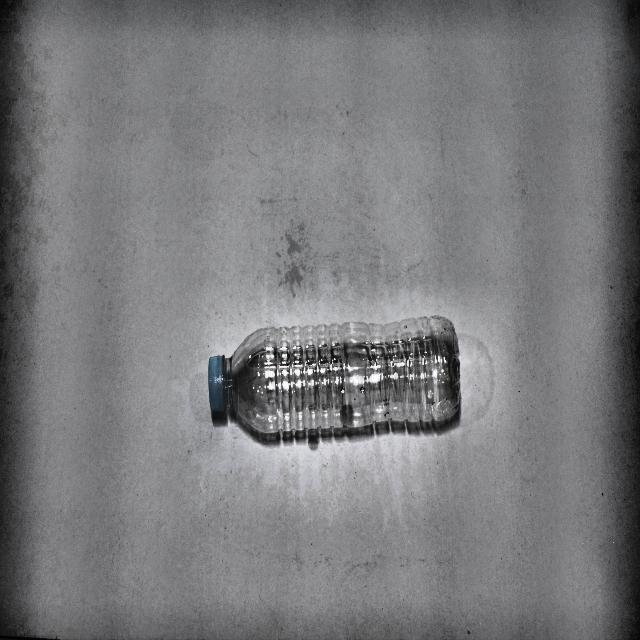Bottles: (206, 310, 468, 442)
